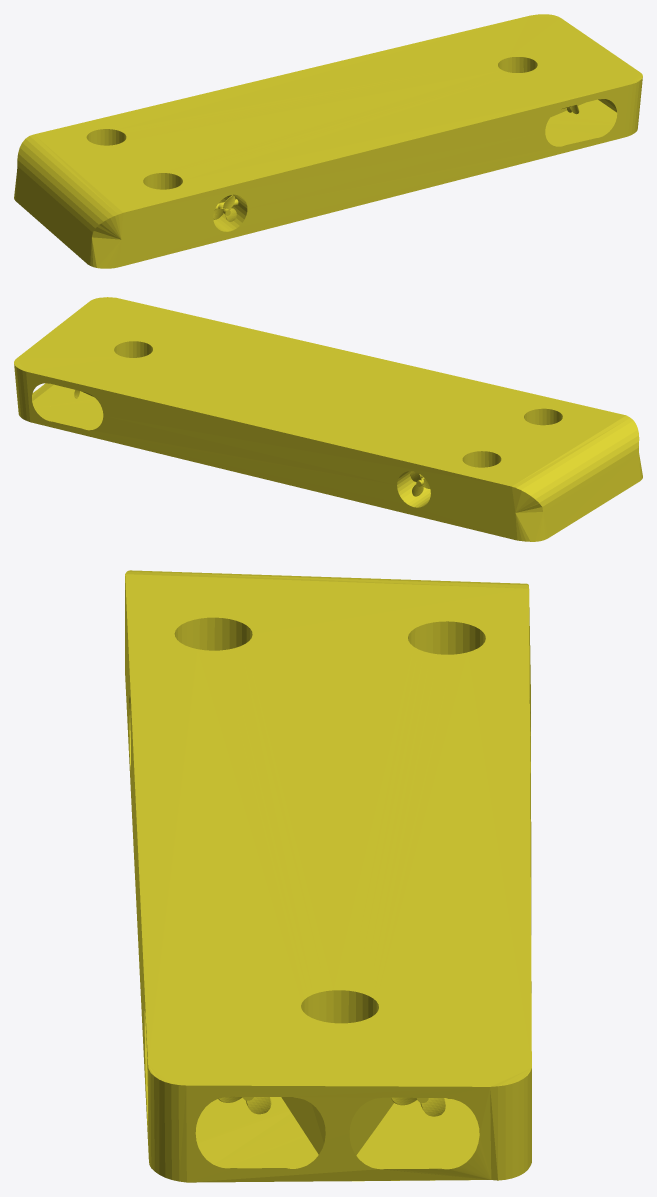
Rendered from submersible.dae.
3 renders of one model, top to bottom at view 1: azimuth 30°, elevation 25°; view 2: azimuth 150°, elevation 25°; view 3: azimuth 270°, elevation 25°, orthographic. The views are drawn at different scales.
Parts seen in each view (by area): view 1: Cylinder.003; view 2: Cylinder.003; view 3: Cylinder.003.
Part boxes in pixels (left/top/right/bottom): Cylinder.003: left=14, top=14, right=642, bottom=268; Cylinder.003: left=14, top=297, right=642, bottom=541; Cylinder.003: left=125, top=570, right=531, bottom=1182.
Bounding box in the file's own units: 2.65 × 0.8571 × 0.2501.
